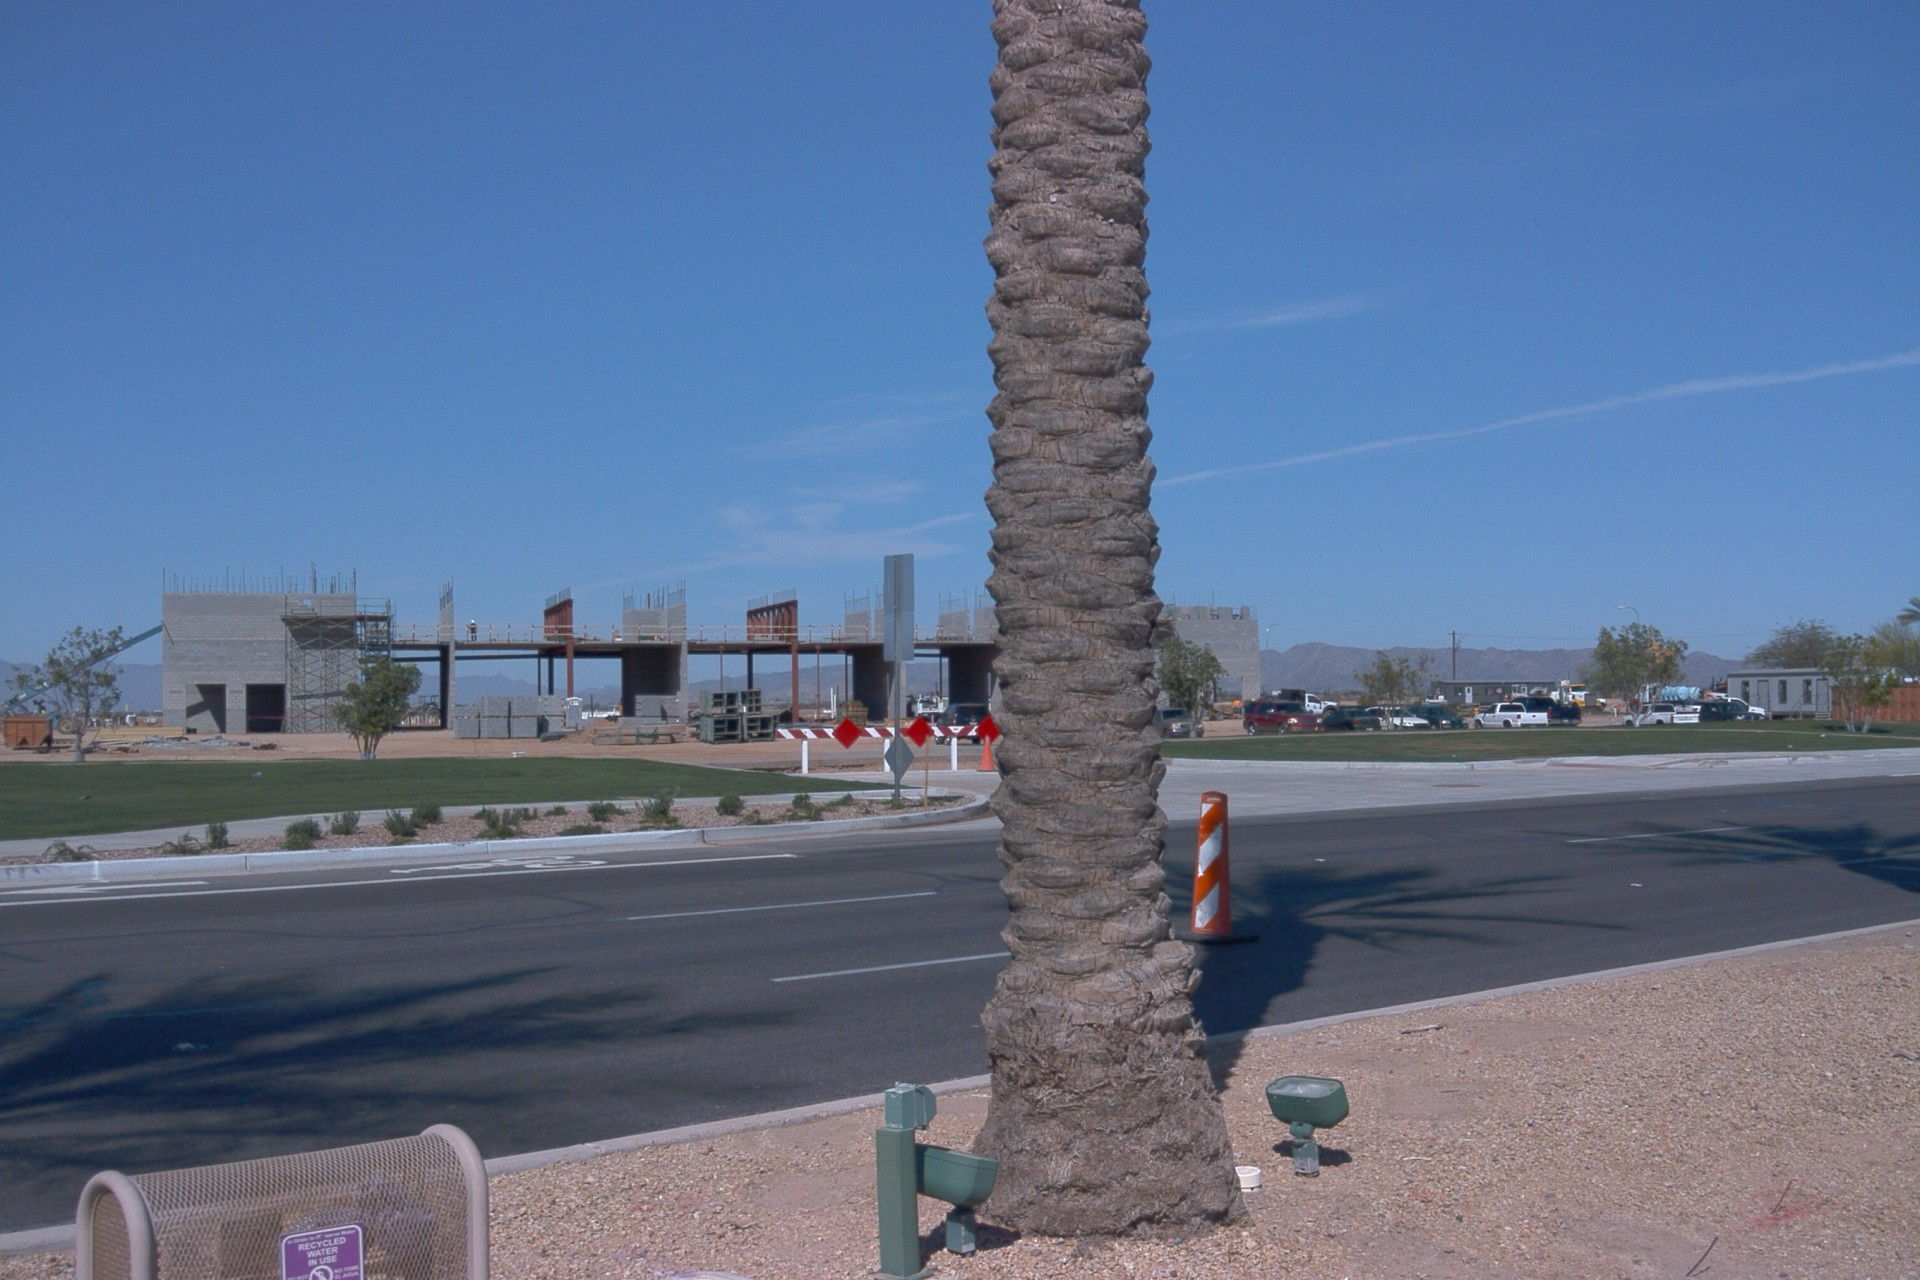TYPE_PEDESTRIAN: (1509, 694, 1517, 703), (1502, 696, 1510, 704)
TYPE_VEHICLE: (0, 625, 173, 739), (1511, 678, 1604, 719), (1242, 695, 1323, 737), (933, 702, 991, 748), (1671, 695, 1765, 723), (1474, 700, 1551, 732), (1632, 682, 1705, 715), (1512, 691, 1584, 724), (1318, 701, 1383, 734), (1274, 687, 1334, 720), (1154, 707, 1205, 743), (1620, 704, 1699, 726), (1675, 701, 1758, 721), (1368, 705, 1433, 728), (1406, 705, 1468, 728), (903, 690, 946, 722), (618, 694, 624, 716)
